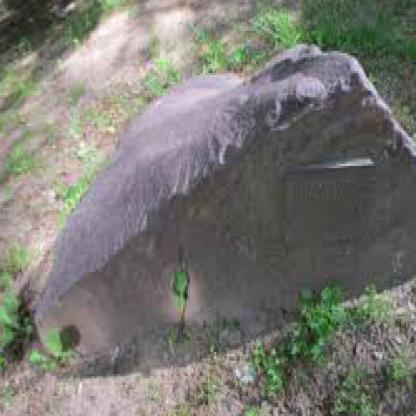Metamorphic_Quartize: (21, 26, 415, 384)
